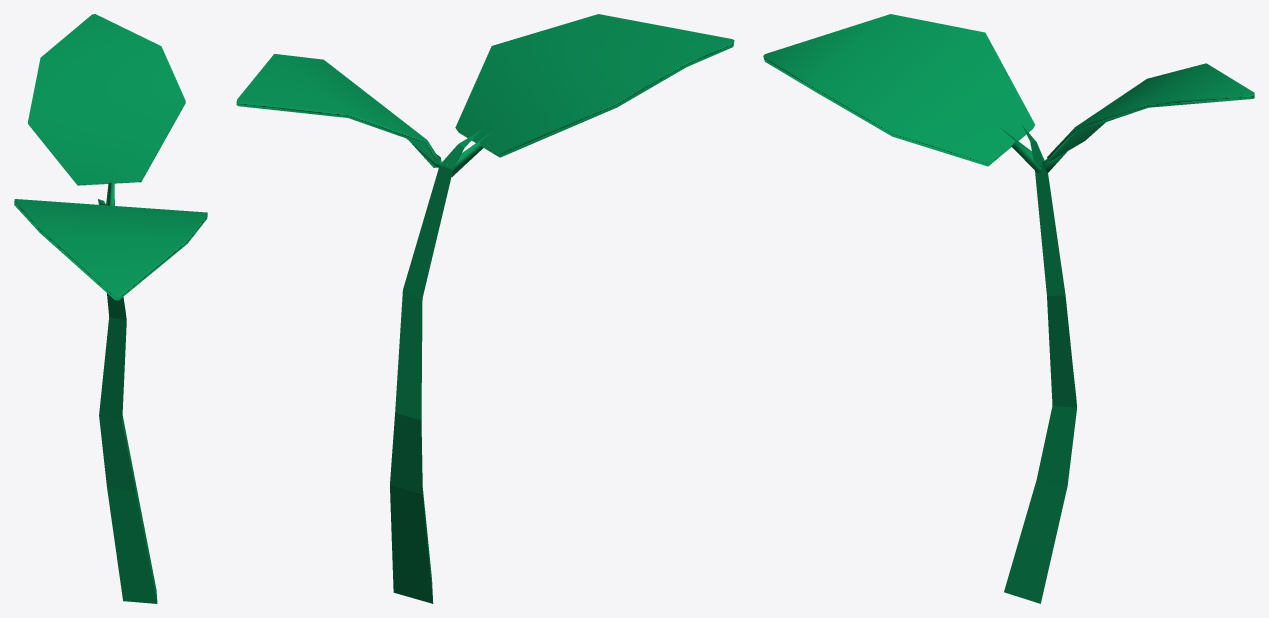
File: Flower1st.fbx
3 views of the same model, side by side, from view 1: azimuth 30°, elevation 25°; view 2: azimuth 150°, elevation 25°; view 3: azimuth 270°, elevation 25° (orthographic). The views are drawn at different scales.
Visible parts, largest first — view 1: Flower1st2; view 2: Flower1st2; view 3: Flower1st2.
Boxes of the visible parts, left/top/right/bottom form: Flower1st2: left=14, top=14, right=207, bottom=603; Flower1st2: left=236, top=14, right=734, bottom=603; Flower1st2: left=763, top=14, right=1254, bottom=603.
Bounding box in the file's own units: 9.73 × 19.08 × 15.98.
